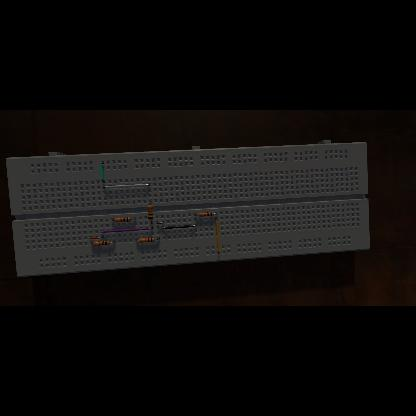breadboard: (6, 140, 370, 278)
resistor: (198, 212, 214, 218), (115, 218, 131, 223), (94, 242, 110, 247), (140, 237, 154, 242), (148, 206, 152, 220)
wire: (101, 228, 153, 233), (104, 184, 151, 188), (216, 218, 220, 254), (164, 225, 197, 229), (100, 163, 104, 183), (90, 236, 104, 240), (156, 222, 164, 224), (130, 218, 135, 220), (149, 202, 151, 206), (151, 220, 153, 224), (155, 238, 159, 240), (110, 242, 115, 243), (196, 214, 198, 216), (112, 220, 114, 222), (137, 240, 139, 242), (214, 213, 217, 214), (91, 244, 93, 245)
